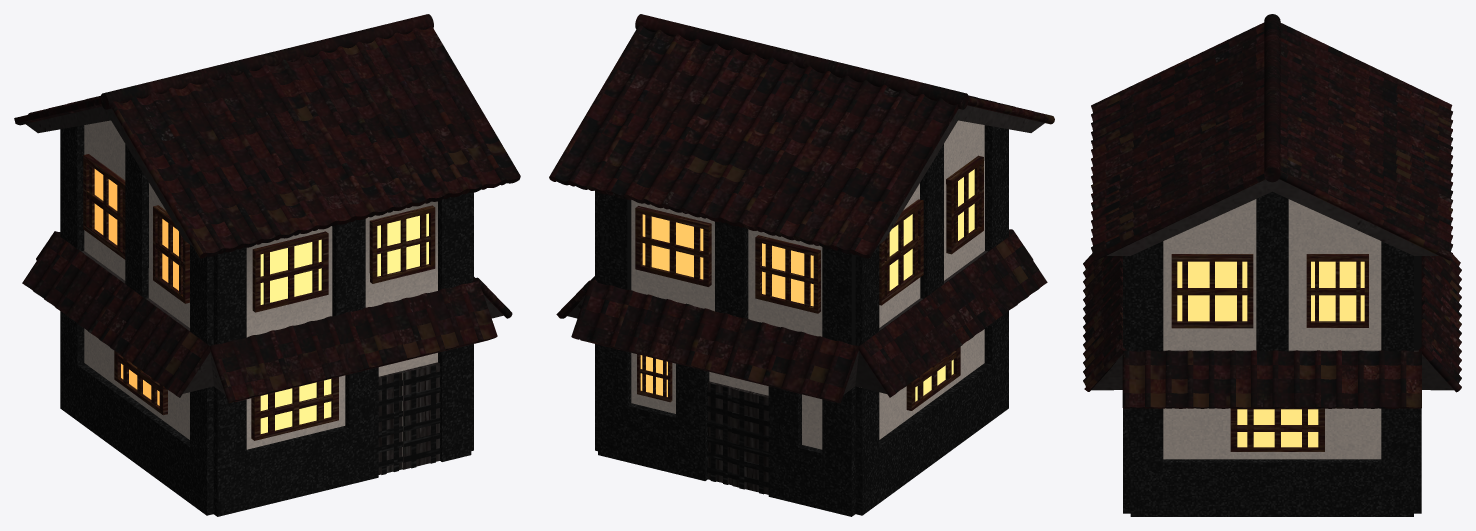
The model's file is house.glb.
3 renders of one model, left to right at view 1: azimuth 30°, elevation 25°; view 2: azimuth 150°, elevation 25°; view 3: azimuth 270°, elevation 25°, orthographic. The views are drawn at different scales.
Visible parts, largest first — view 1: polySurface2671, polySurface2991, polySurface2684, polySurface2062, polySurface2055, polySurface1929, polySurface2949, polySurface2681, polySurface1560, polySurface2057, polySurface1926, polySurface2056 (+5 smaller); view 2: polySurface2970, polySurface2991, polySurface2684, polySurface2950, polySurface1929, polySurface2949, polySurface2052, polySurface2053, polySurface2953, polySurface1560, polySurface1711, polySurface1698 (+5 smaller); view 3: polySurface2671, polySurface2970, polySurface2684, polySurface1709, polySurface2951, polySurface2991, polySurface1705, polySurface2950, polySurface2062, polySurface1706, polySurface1708, polySurface1560 (+4 smaller).
Part boxes in pixels (<box>): polySurface2671: <box>111,26,520,258</box>; polySurface2991: <box>83,154,435,440</box>; polySurface2684: <box>26,106,503,467</box>; polySurface2062: <box>210,280,497,403</box>; polySurface2055: <box>213,367,378,516</box>; polySurface1929: <box>60,311,216,515</box>; polySurface2949: <box>22,233,210,397</box>; polySurface2681: <box>378,362,440,474</box>; polySurface1560: <box>100,14,433,109</box>; polySurface2057: <box>438,344,471,461</box>; polySurface1926: <box>125,144,148,298</box>; polySurface2056: <box>213,247,246,344</box>; polySurface2970: <box>549,25,958,258</box>; polySurface2991: <box>635,155,983,410</box>; polySurface2684: <box>567,105,1044,449</box>; polySurface2950: <box>571,280,858,402</box>; polySurface1929: <box>851,311,1008,515</box>; polySurface2949: <box>858,232,1047,397</box>; polySurface2052: <box>598,344,709,480</box>; polySurface2053: <box>768,386,855,516</box>; polySurface2953: <box>707,381,768,494</box>; polySurface1560: <box>635,14,968,109</box>; polySurface1711: <box>715,221,748,318</box>; polySurface1698: <box>822,247,855,345</box>; polySurface2671: <box>1091,22,1265,260</box>; polySurface2970: <box>1279,23,1452,260</box>; polySurface2684: <box>1091,179,1453,459</box>; polySurface1709: <box>1130,408,1413,516</box>; polySurface2951: <box>1122,350,1421,408</box>; polySurface2991: <box>1171,254,1368,451</box>; polySurface1705: <box>1256,191,1288,351</box>; polySurface2950: <box>1419,254,1461,392</box>; polySurface2062: <box>1083,253,1126,391</box>; polySurface1706: <box>1130,241,1163,351</box>; polySurface1708: <box>1381,241,1413,351</box>; polySurface1560: <box>1264,14,1280,182</box>.
Bounding box in the file's own units: 6.87 × 7.28 × 6.88.
10 materials, 10 textured.
